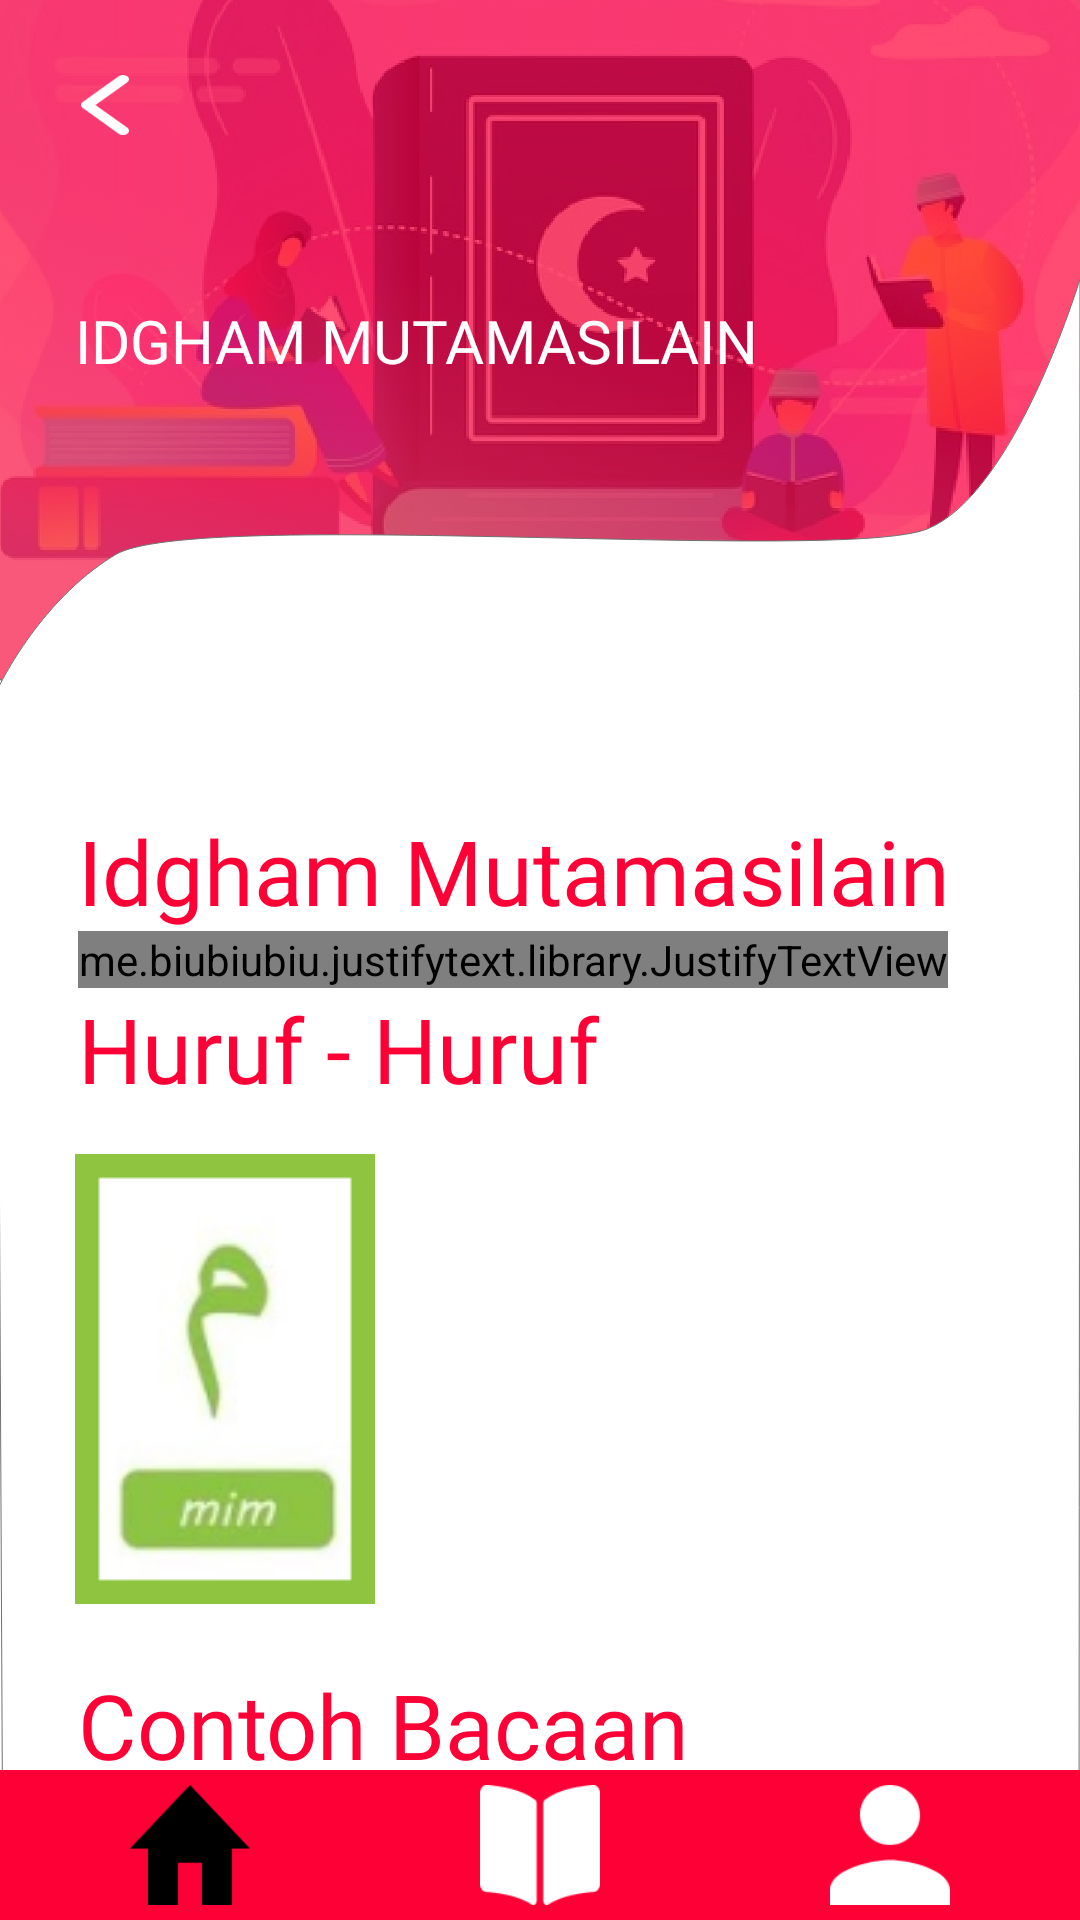

Screen size 1080*1920. Icon name, then its center in pixels as point (x, y):
akun: point (890, 1845)
back: point (105, 105)
home: point (190, 1845)
